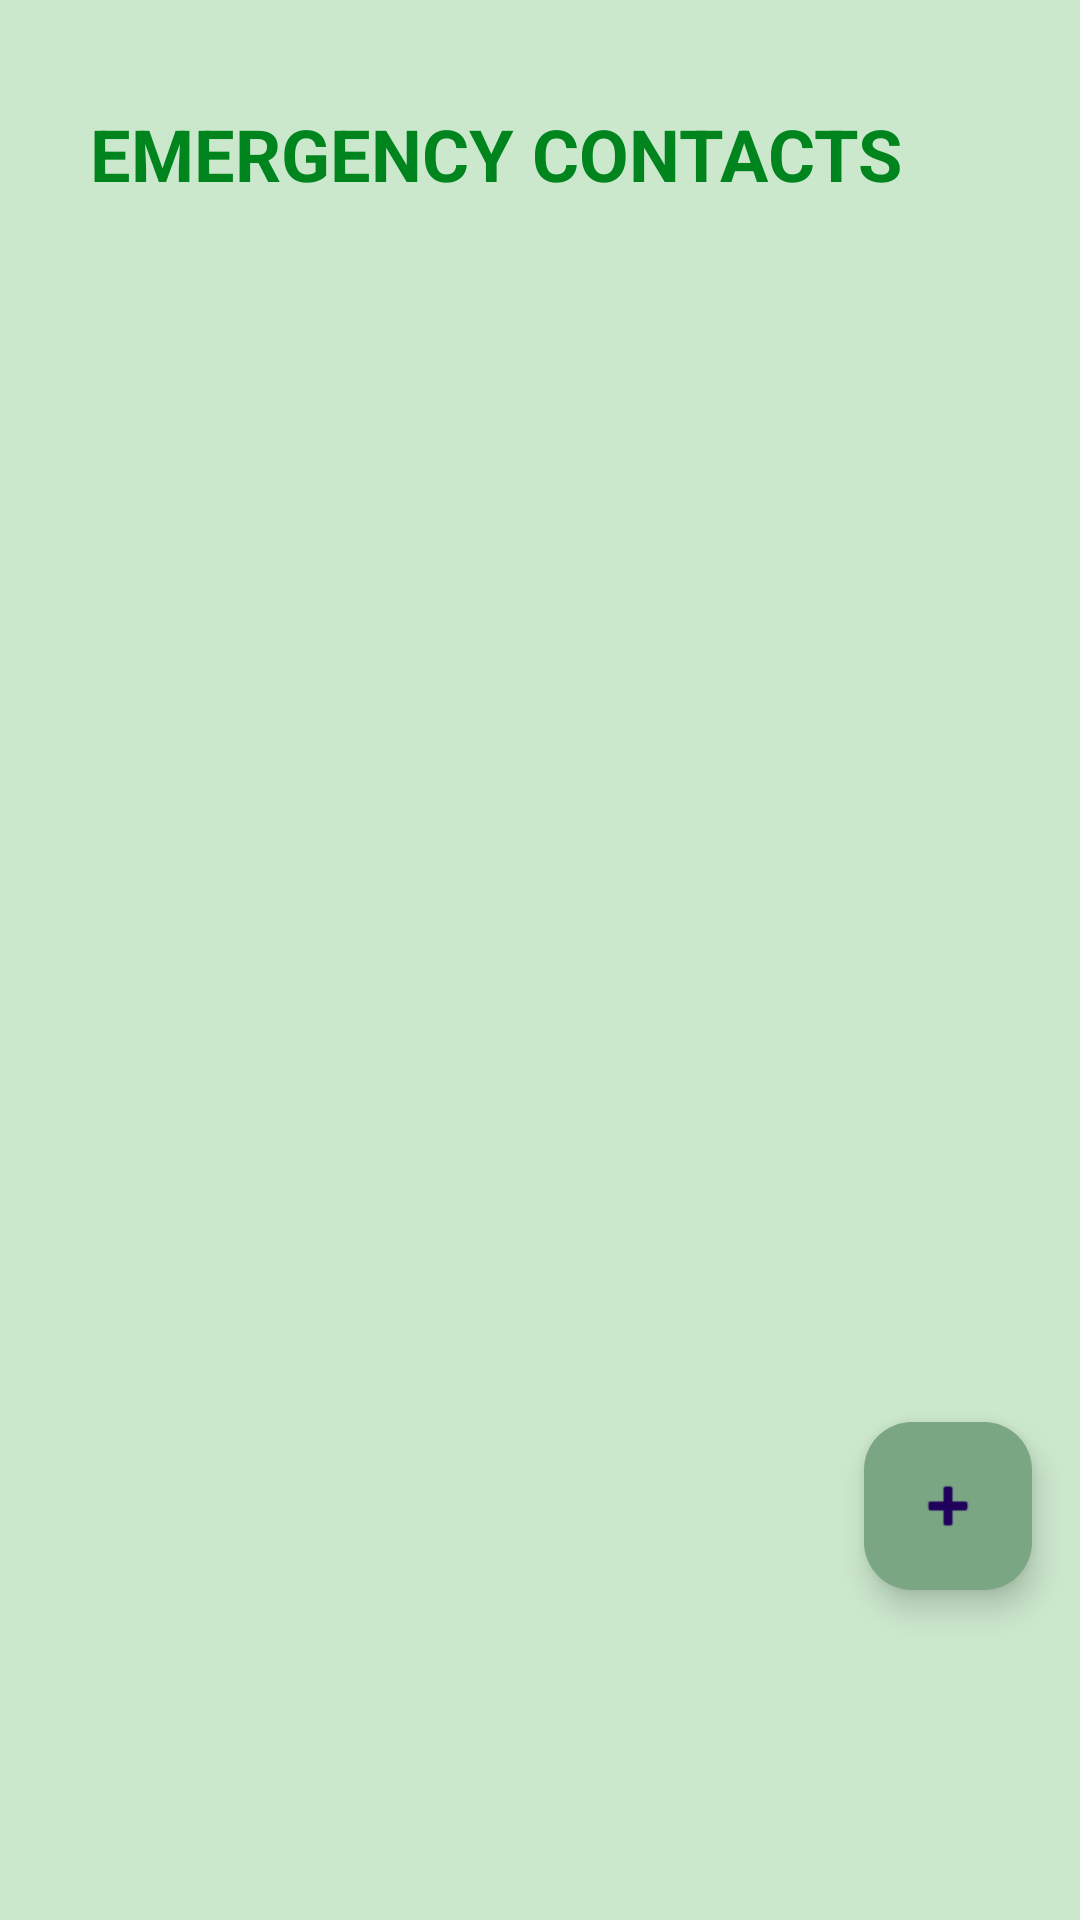

Screen size 1080px x 1920px. Icon name, then its box in pixels as (x1, y1, x2, y2):
Add Contact: (864, 1422, 1032, 1590)
